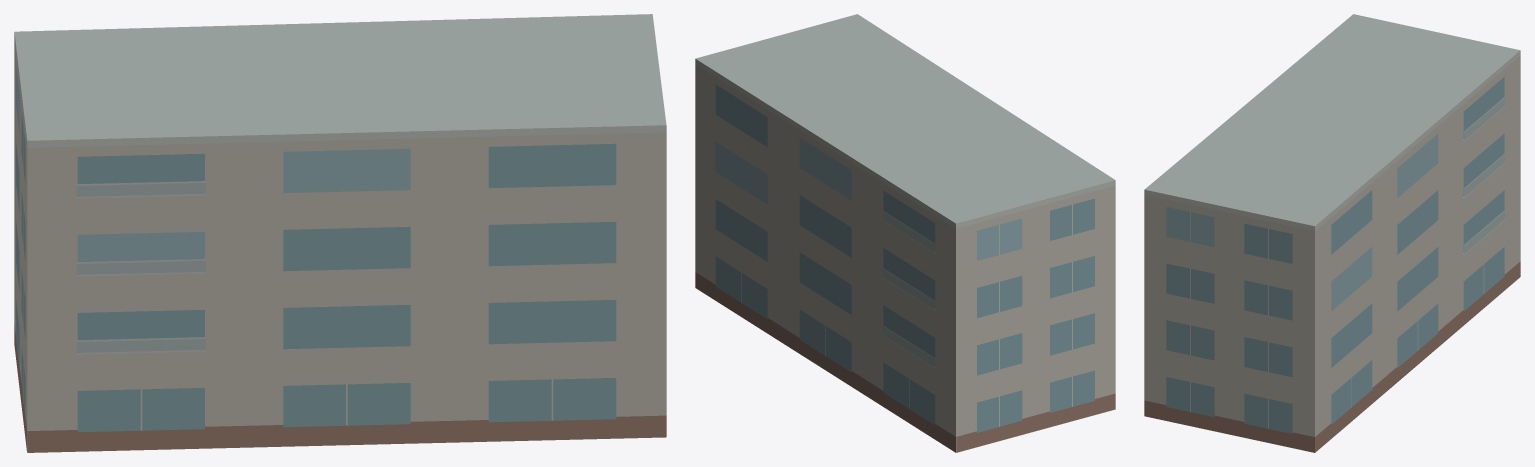
Rendered from survey-upis-32893118.glb.
The picture shows the model from 3 angles, left to right: view 1: azimuth 30°, elevation 25°; view 2: azimuth 150°, elevation 25°; view 3: azimuth 270°, elevation 25°; orthographic projection. The views are drawn at different scales.
Visible parts, largest first — view 1: survey-upis-32893118.tmp; view 2: survey-upis-32893118.tmp; view 3: survey-upis-32893118.tmp.
Part boxes in pixels (x1=…): survey-upis-32893118.tmp: x1=14, y1=14, x2=666, y2=452; survey-upis-32893118.tmp: x1=695, y1=14, x2=1115, y2=452; survey-upis-32893118.tmp: x1=1144, y1=14, x2=1520, y2=452.
Size of the model in its own units: 21.43 by 10.67 by 16.06.
